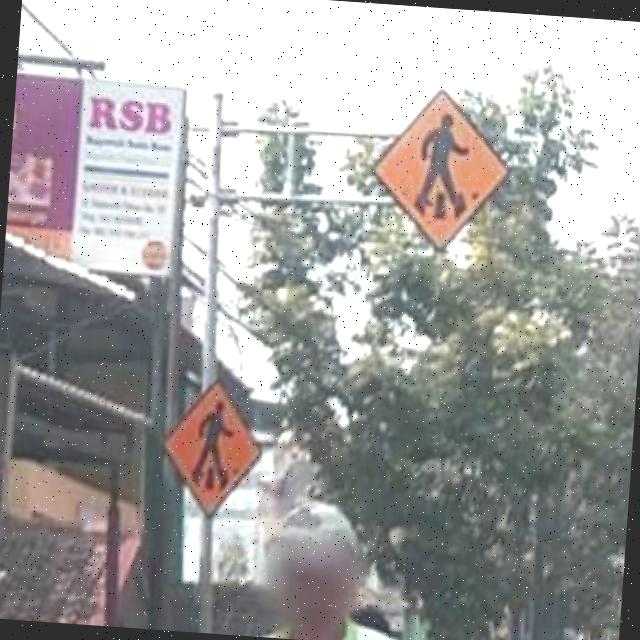Przejscie dla pieszych: (372, 92, 510, 251), (164, 386, 262, 516)
